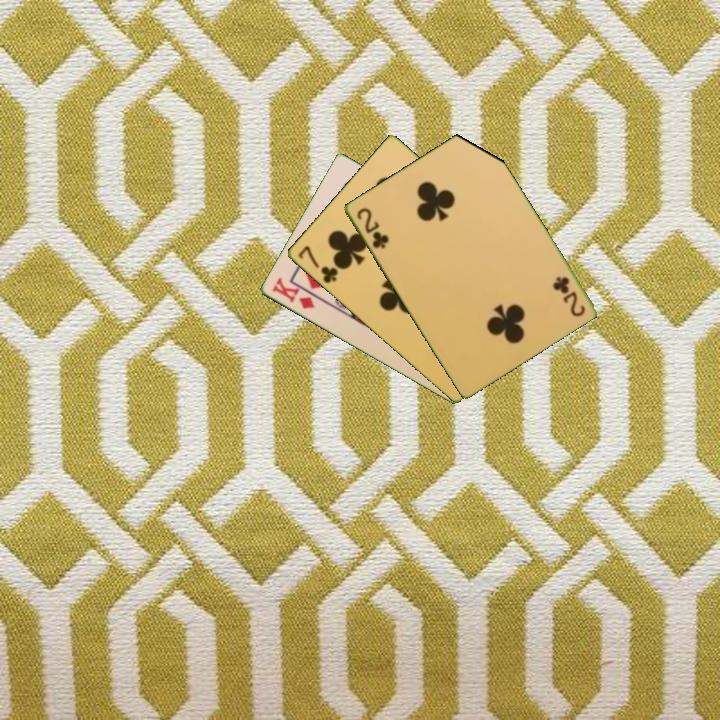2c: (353, 204, 391, 252), (550, 273, 588, 320)
7c: (294, 242, 341, 286)
Kd: (268, 274, 318, 312)
